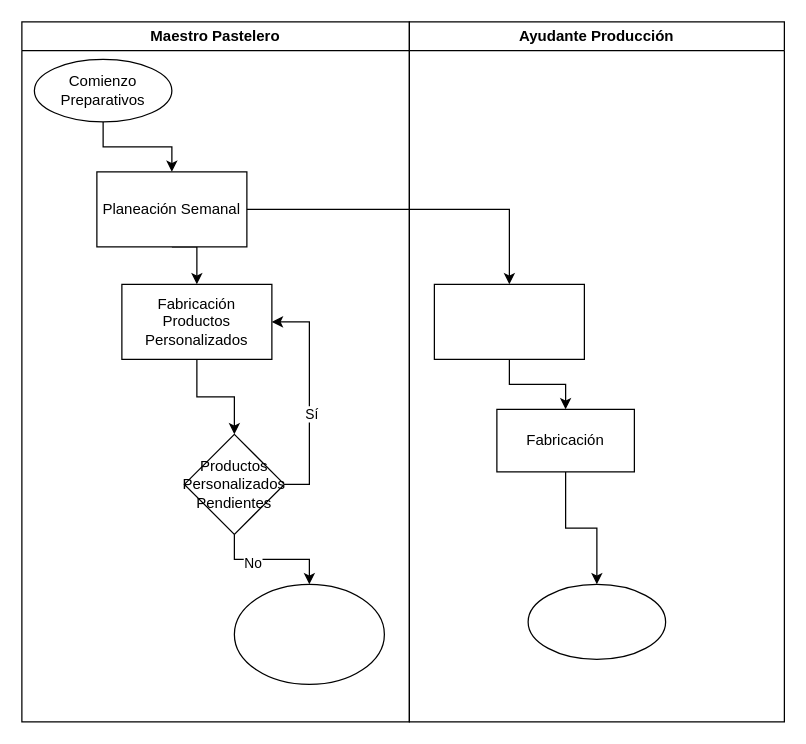
Some shapes in this 806 by 744 pixel diagram are drawn without their labels. The box of each missing label's shape, as (x1, y1, x2, y2) in pixels:
Finalizacion. Reposición de Stock.: (527, 583, 666, 659)
Notificación al Personal Atención al Público. Almacenamiento en Stock: (233, 583, 384, 684)
Preparativos para Fabricación: (433, 283, 584, 359)
